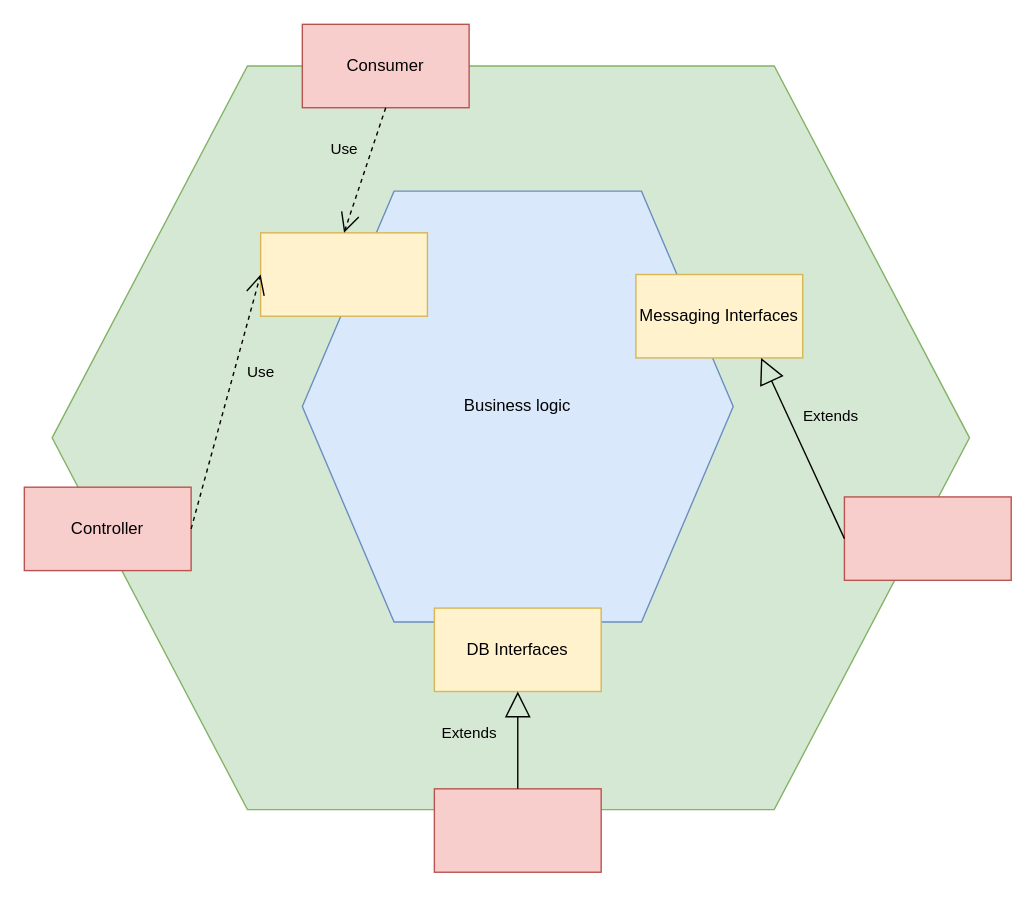
Some shapes in this 1036 by 897 pixel diagram are drawn without their labels. Each missing label, with the centre of its shape:
DAO: pixel 517 829
Producer: pixel 927 538
Services: pixel 343 273
